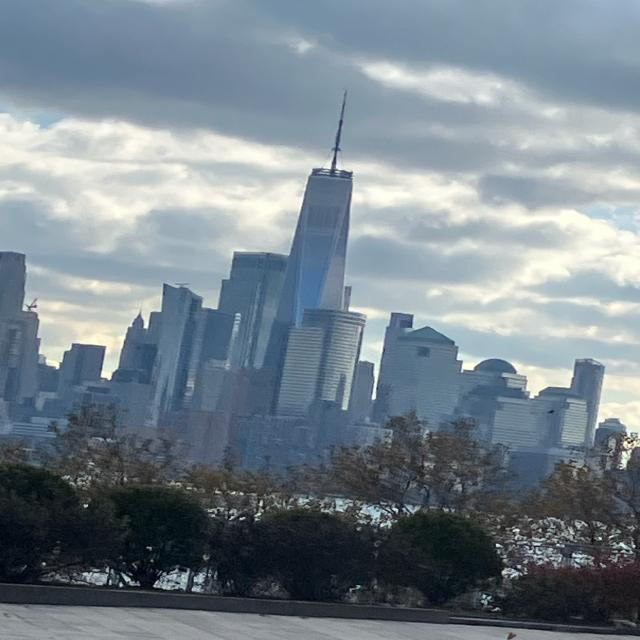WTC: (275, 83, 364, 326)
